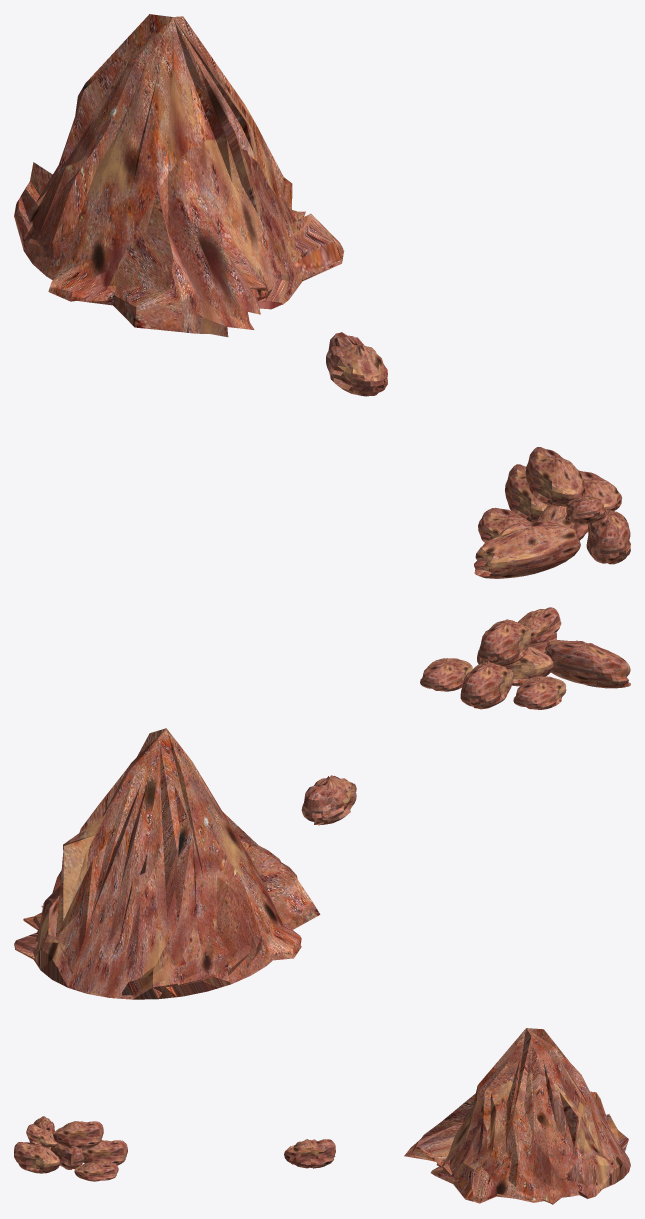
The model's file is боксит(аллюминий)blend.fbx.
3 renders of one model, top to bottom at view 1: azimuth 30°, elevation 25°; view 2: azimuth 150°, elevation 25°; view 3: azimuth 270°, elevation 25°, orthographic. The views are drawn at different scales.
Visible parts, largest first — view 1: Cone, Sphere.008, Sphere.005, Sphere.004, Sphere.003, Sphere, Sphere.007, Sphere.006, Sphere.001; view 2: Cone, Sphere.008, Sphere.005, Sphere, Sphere.004, Sphere.007, Sphere.001, Sphere.002, Sphere.006; view 3: Cone, Sphere.005, Sphere.004, Sphere.003, Sphere, Sphere.001, Sphere.002, Sphere.006.
Boxes of the visible parts, <box> form: Cone: <box>14,14,344,337</box>; Sphere.008: <box>474,521,580,578</box>; Sphere.005: <box>326,332,387,396</box>; Sphere.004: <box>525,447,585,506</box>; Sphere.003: <box>586,510,630,564</box>; Sphere: <box>505,464,547,522</box>; Sphere.007: <box>478,507,529,542</box>; Sphere.006: <box>565,495,605,524</box>; Sphere.001: <box>579,470,621,510</box>; Cone: <box>14,728,320,999</box>; Sphere.008: <box>545,640,630,688</box>; Sphere.005: <box>301,775,356,825</box>; Sphere: <box>460,661,513,709</box>; Sphere.004: <box>479,619,531,666</box>; Sphere.007: <box>513,676,566,709</box>; Sphere.001: <box>420,658,472,691</box>; Sphere.002: <box>477,646,553,686</box>; Sphere.006: <box>517,607,561,644</box>; Cone: <box>404,1028,630,1204</box>; Sphere.005: <box>284,1139,335,1168</box>; Sphere.004: <box>53,1121,103,1148</box>; Sphere.003: <box>14,1142,60,1173</box>; Sphere: <box>81,1140,127,1165</box>; Sphere.001: <box>74,1161,118,1181</box>; Sphere.002: <box>50,1143,84,1169</box>; Sphere.006: <box>26,1124,57,1147</box>.
Bounding box in the file's own units: 664 × 552 × 2215.
Materials: 1 (1 with a texture image).
